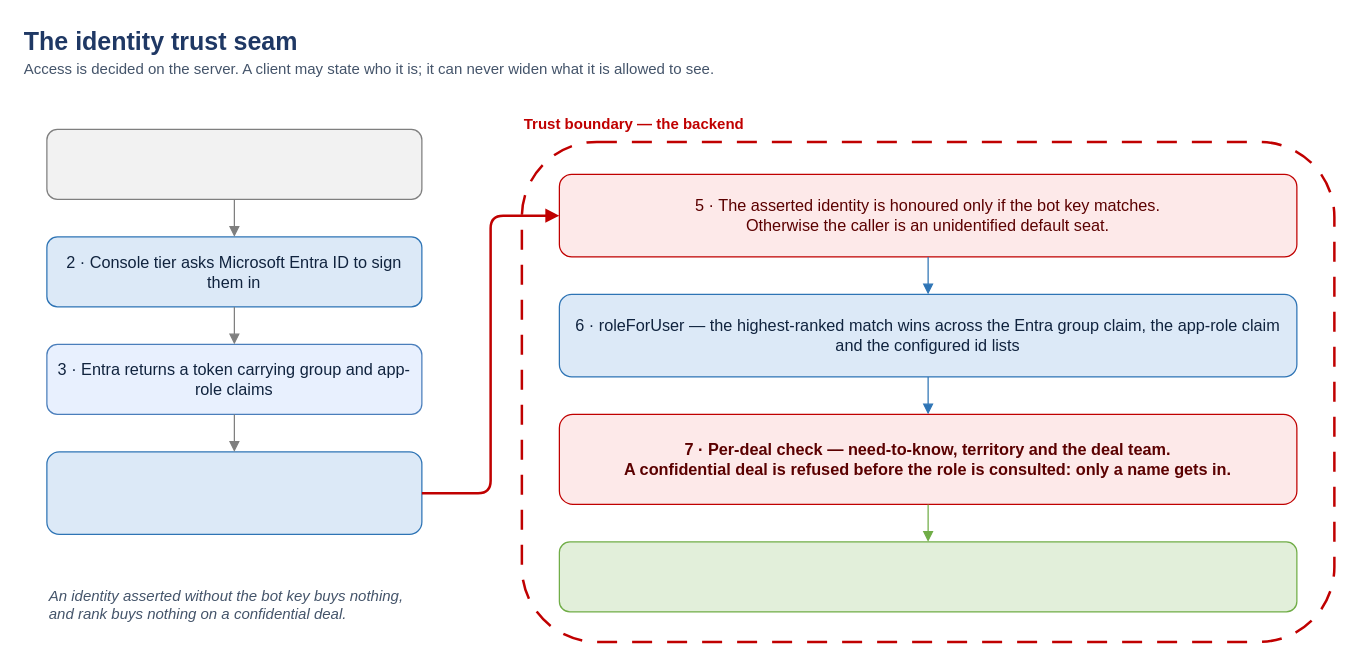
Image size: 1356x664. Some labels were removed from this diagram. Each missing label, with the centre of its shape:
"1 · A person opens the tab" goes at point (234, 163).
"4 · Console tier calls /api with the resolved identity and the shared bot key" goes at point (234, 492).
"8 · The answer carries only what this seat may see" goes at point (927, 576).
